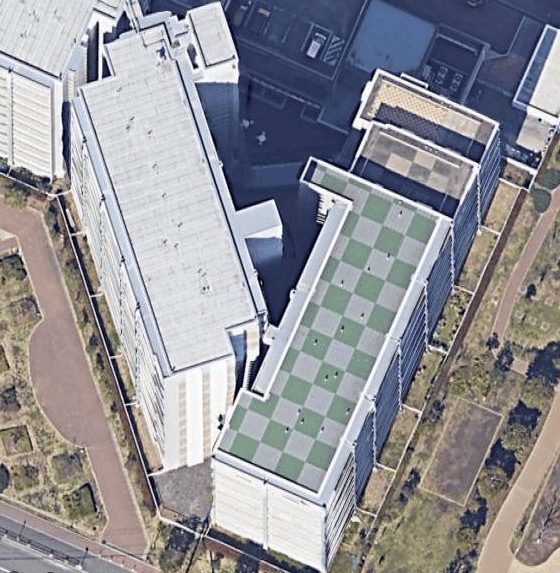flatroof: (198, 58, 507, 516)
rooftop: (51, 0, 307, 381)
